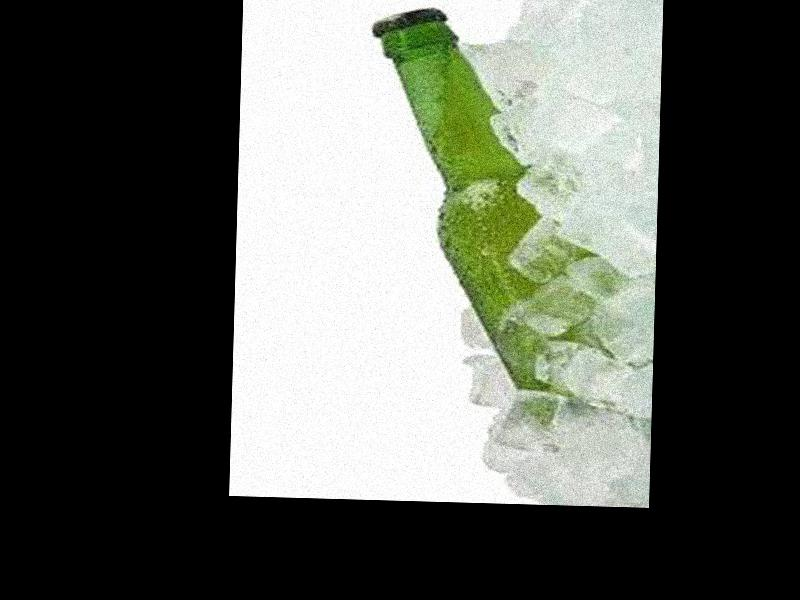Beer: (364, 2, 582, 420)
